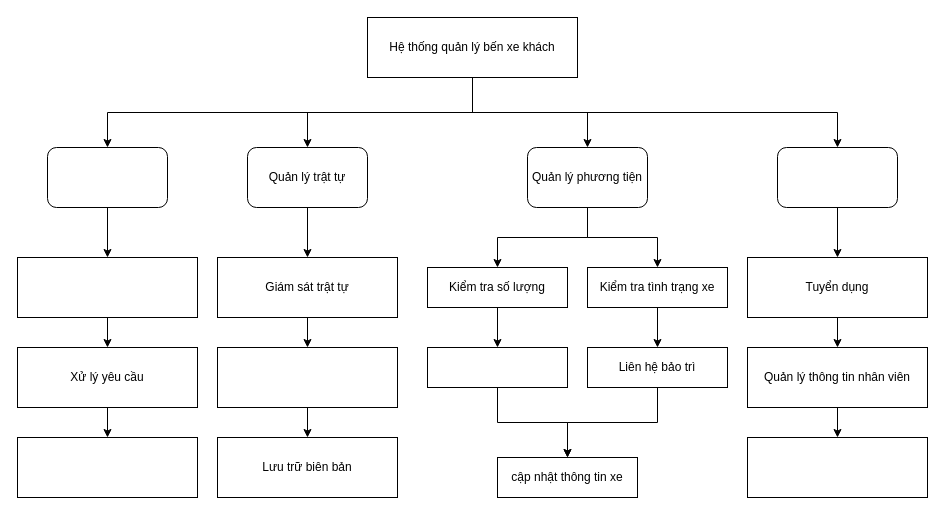
This 945x515 diagram has some shape labels left out. Here are the shapes that lost their labels. From the top down, the box of each, then its label:
(46, 146, 168, 208): Quản lý khách hàng
(776, 146, 898, 208): Quản lý nhân sự
(16, 256, 198, 318): Tiếp nhận yêu cầu (Thông tin, đặt vé)
(216, 346, 398, 408): Xử lý sự cố
(426, 346, 568, 388): liên hệ nhà cung cấp
(16, 436, 198, 498): Lưu trữ thông tin khách hàng
(746, 436, 928, 498): Quản lý giờ công nhân viên
